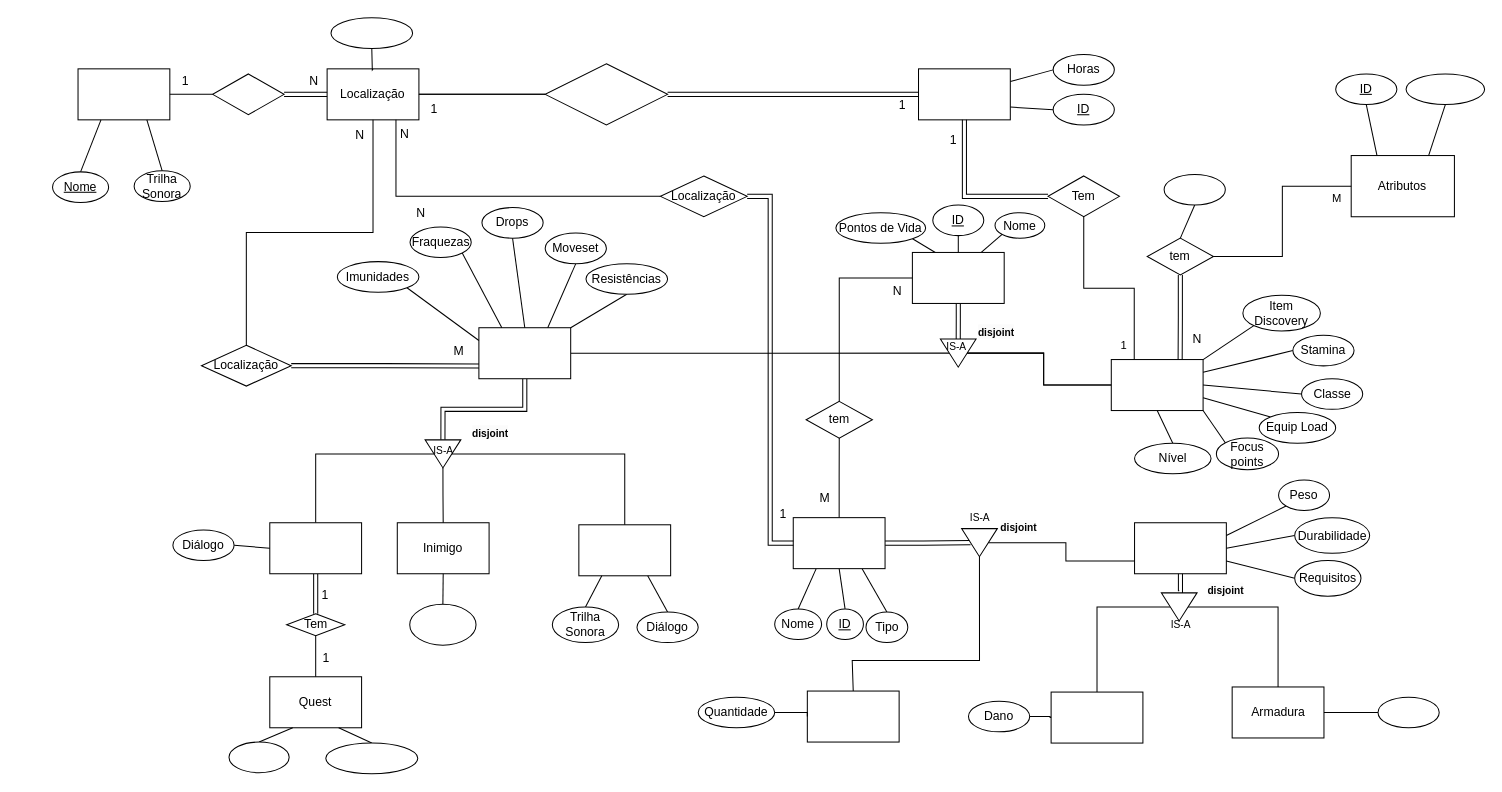
The diagram is 1502 pixels wide and 792 high, and some of its shapes have lost their labels. The shapes that lost their labels are listed below. From the top down, each one's centre as x and y in pixels, then its label:
At [371,32]: "Coordenadas".
At [123,94]: "Zona".
At [248,94]: "pertence".
At [606,94]: "Última localização".
At [963,94]: "Save".
At [1445,89]: "Designação".
At [1194,189]: "Valor".
At [957,277]: "Personagem".
At [524,353]: "Adversário".
At [1156,385]: "Jogador".
At [315,548]: "NPC".
At [624,550]: "Boss".
At [838,543]: "Item".
At [1180,548]: "Item Equipável".
At [442,624]: "Tipo de inimigo".
At [852,716]: "Item Não Equipável".
At [1096,717]: "Arma".
At [1408,712]: "Defesa".
At [258,757]: "Objetivo".
At [371,758]: "Recompensa".
